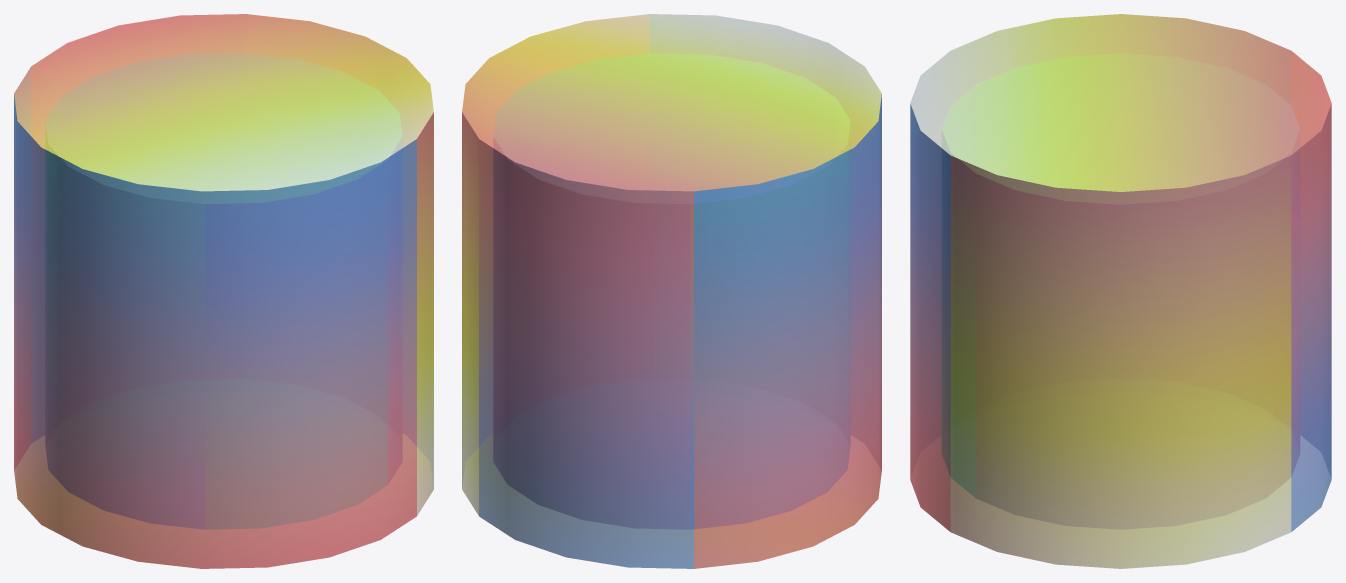
File: glass.obj
3 renders of one model, left to right at view 1: azimuth 30°, elevation 25°; view 2: azimuth 150°, elevation 25°; view 3: azimuth 270°, elevation 25°, orthographic.
Visible parts, largest first — view 1: pCylinder1_lambert1_0; view 2: pCylinder1_lambert1_0; view 3: pCylinder1_lambert1_0.
Boxes of the visible parts, <box> form: pCylinder1_lambert1_0: <box>14,14,433,568</box>; pCylinder1_lambert1_0: <box>462,14,881,568</box>; pCylinder1_lambert1_0: <box>910,14,1331,568</box>.
Size of what is drawn, in the model's own units: 0.9022 by 0.9497 by 0.9022.
Materials: 1 (1 with a texture image).
